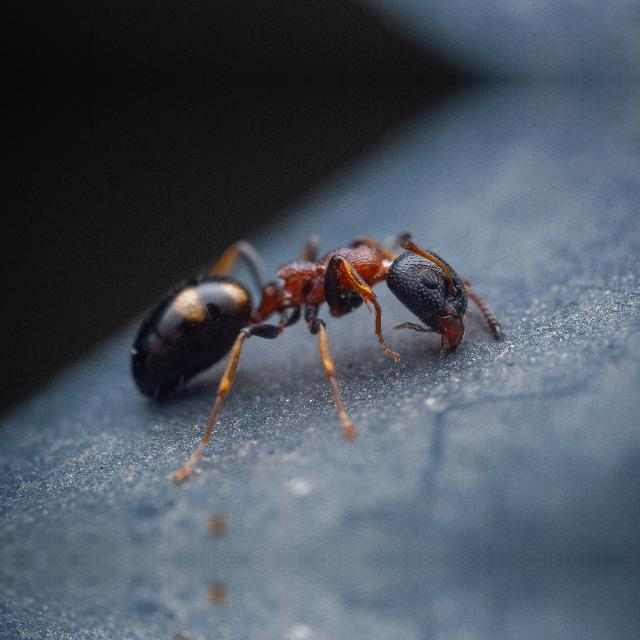Dolichoderus: (97, 199, 539, 425)
